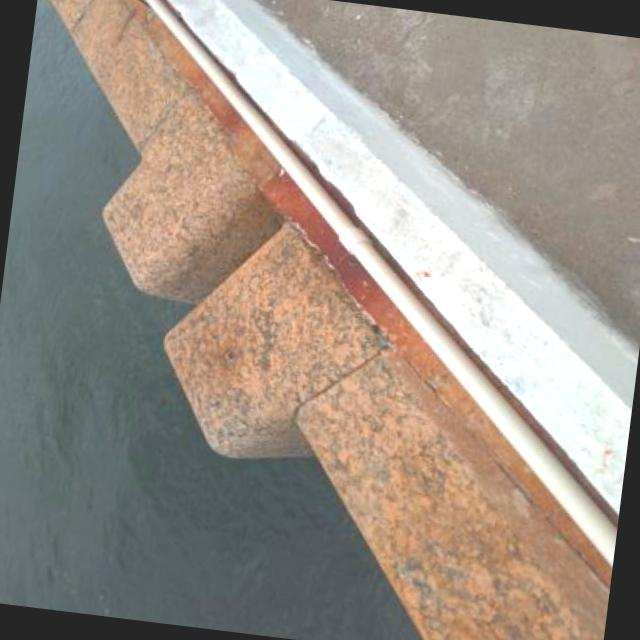gas: (144, 0, 617, 563)
